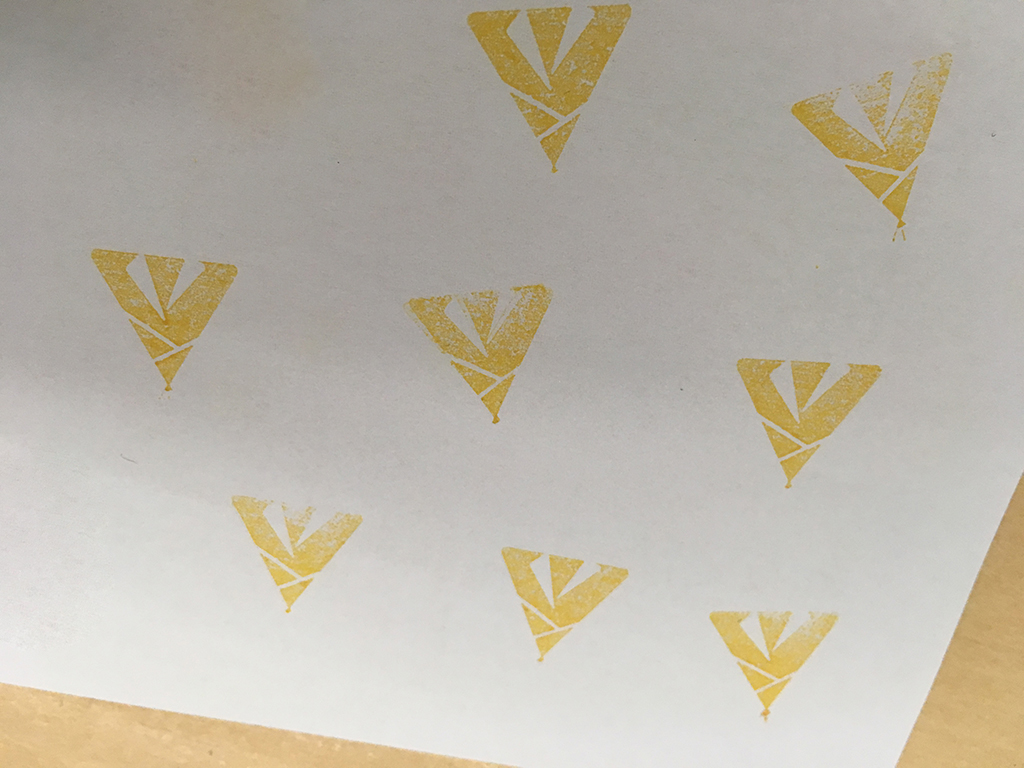tent: (782, 40, 963, 247), (457, 1, 640, 188), (74, 229, 259, 409), (397, 267, 564, 433), (722, 346, 891, 502), (221, 476, 375, 629), (489, 542, 634, 676), (703, 599, 850, 724)
